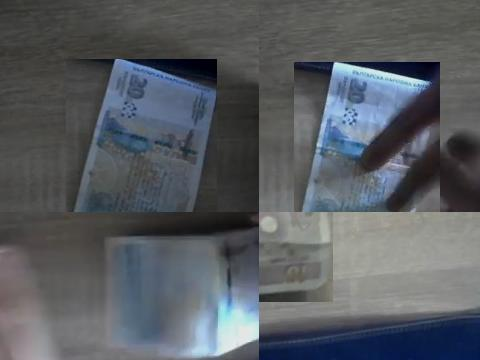10leva: (259, 212, 333, 297)
20leva: (73, 59, 217, 212), (301, 62, 440, 212)
